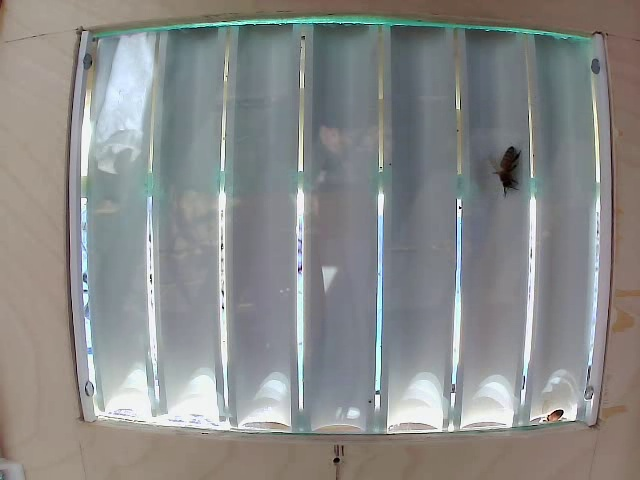bee: (480, 143, 527, 205)
